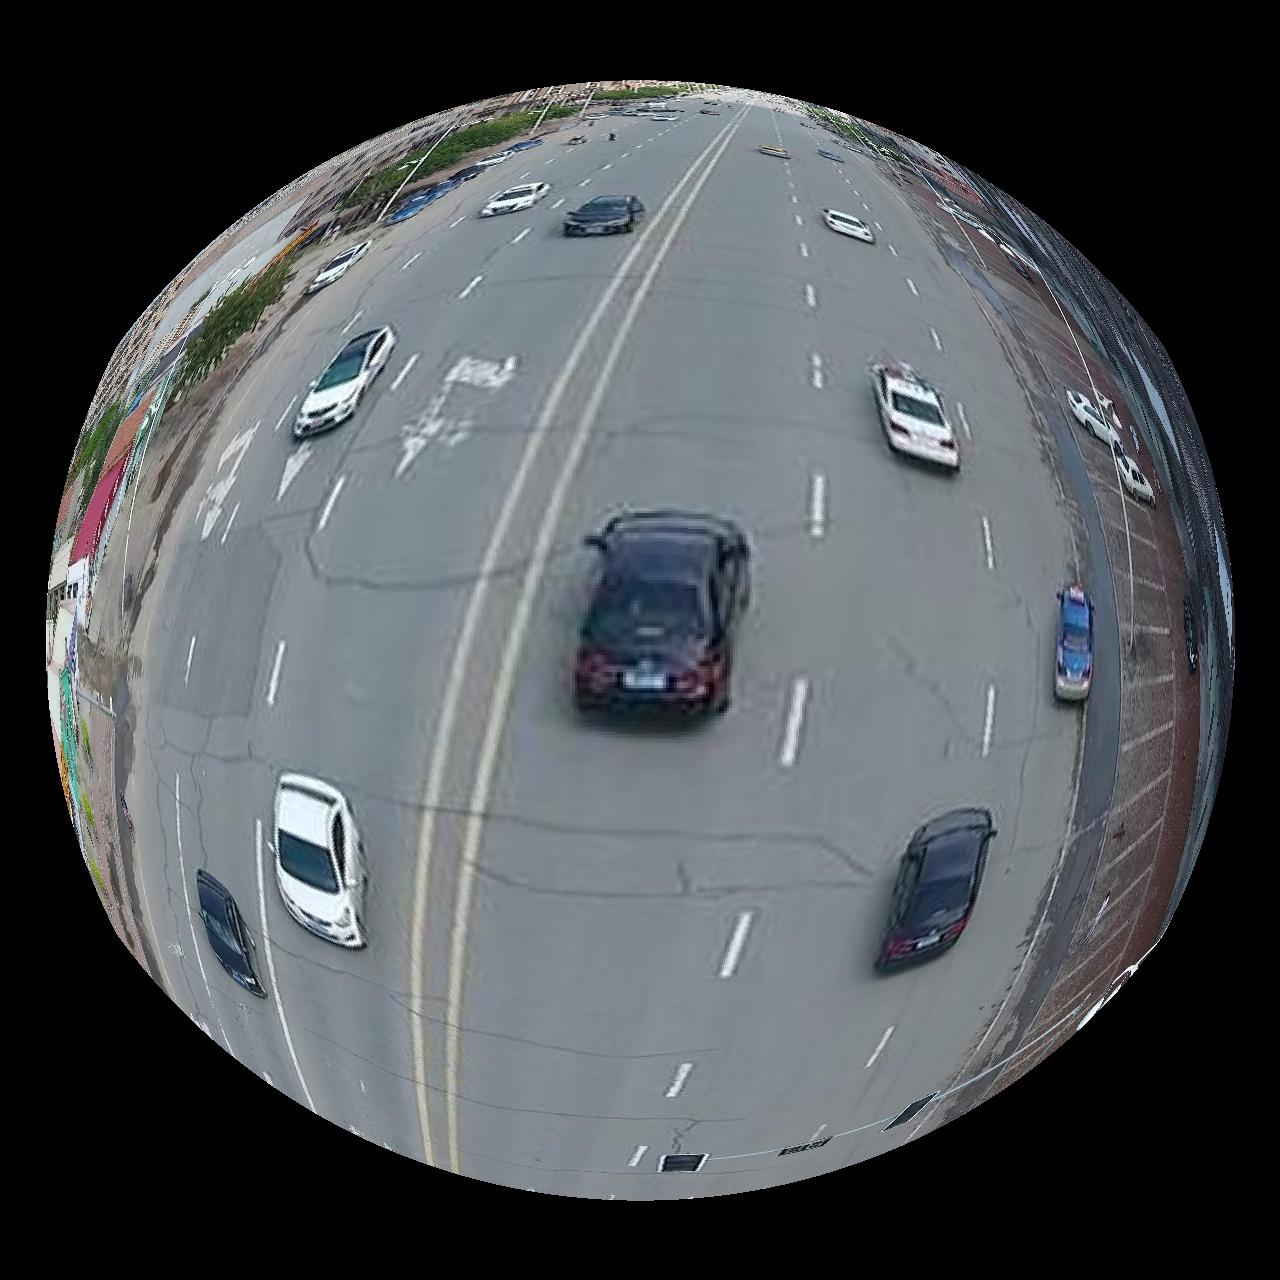cars: (574, 509, 750, 715), (876, 811, 998, 974), (273, 775, 365, 949), (293, 325, 396, 437), (872, 358, 960, 469), (197, 871, 265, 999), (1057, 585, 1096, 702), (1069, 388, 1125, 450), (564, 195, 645, 236), (481, 181, 549, 216), (1119, 452, 1159, 505), (823, 207, 877, 243)
trees: (169, 257, 293, 402), (417, 110, 538, 177), (340, 150, 424, 207)
